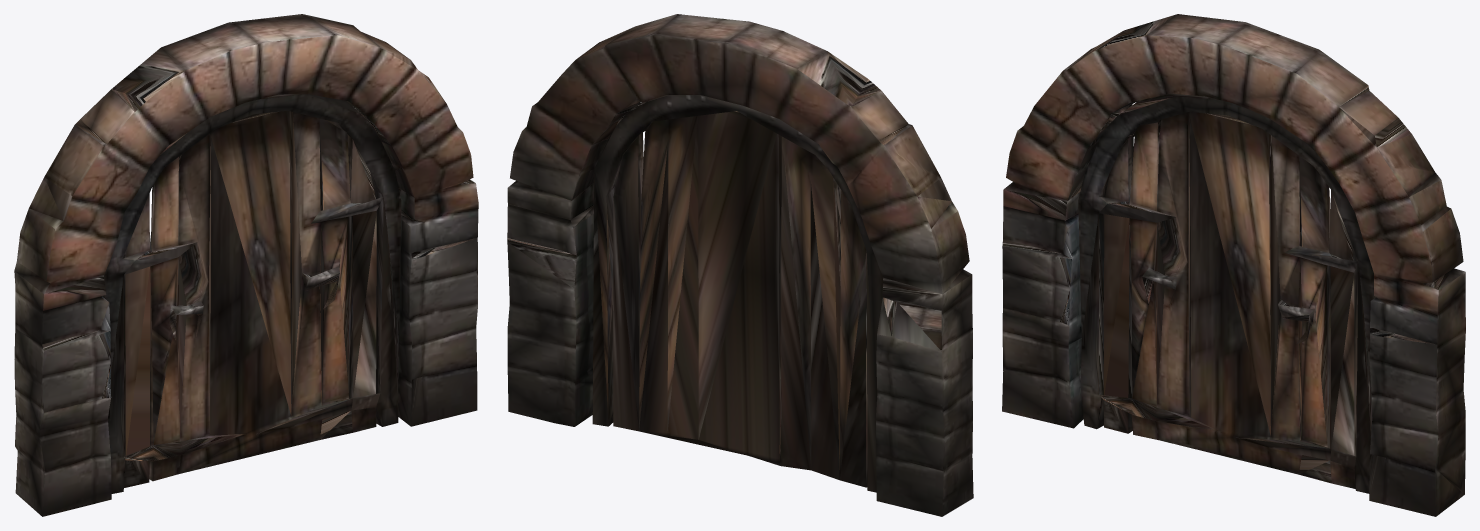
The model's file is dungeon-wall-with-door.glb.
3 renders of one model, left to right at view 1: azimuth 30°, elevation 25°; view 2: azimuth 150°, elevation 25°; view 3: azimuth 330°, elevation 25°, orthographic.
Bounding box in the file's own units: 1.99 × 1.84 × 0.2386.
Materials: 1 (1 with a texture image).
